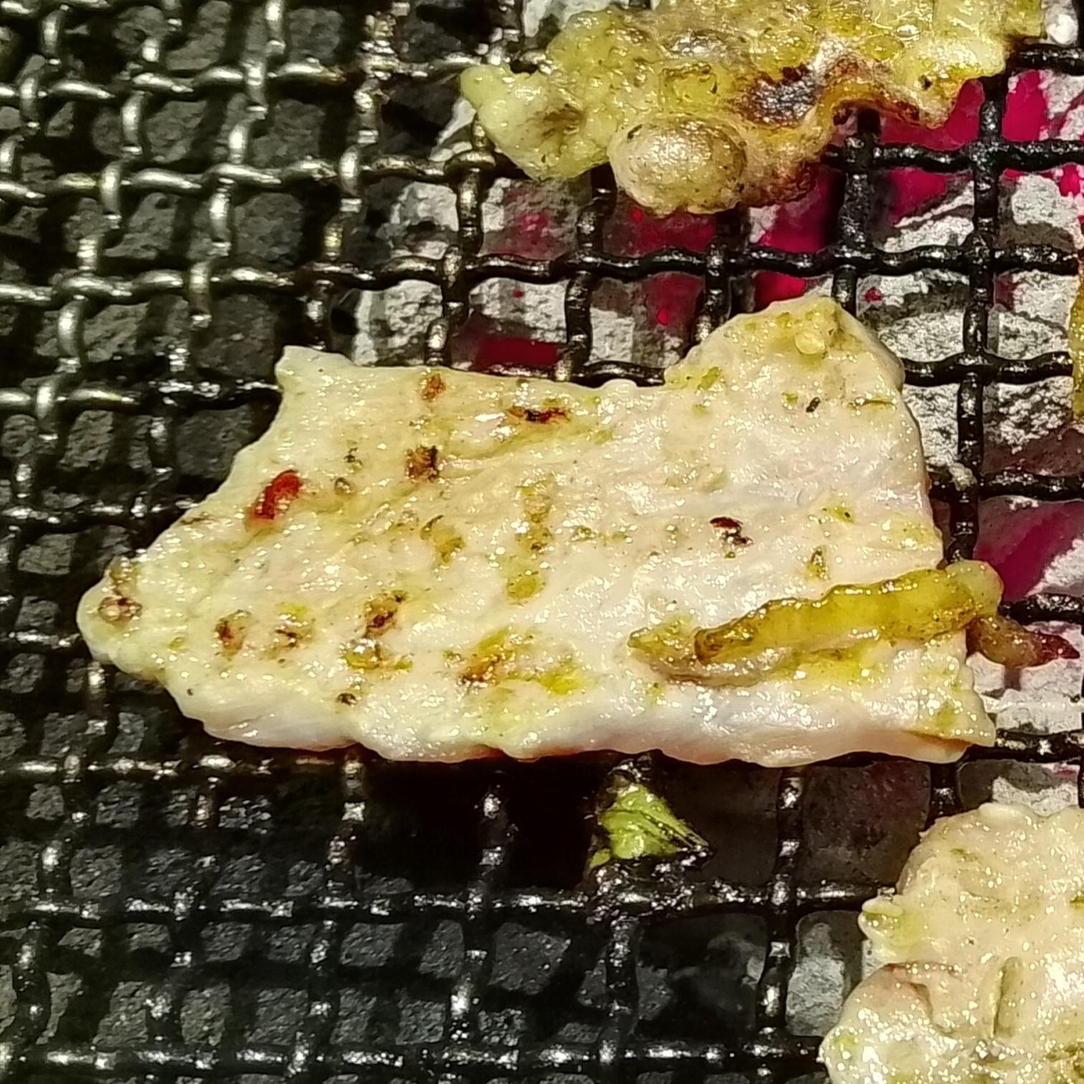Overcooked: (455, 0, 1056, 218)
Well-Cooked: (74, 293, 1052, 773), (819, 793, 1083, 1083)
